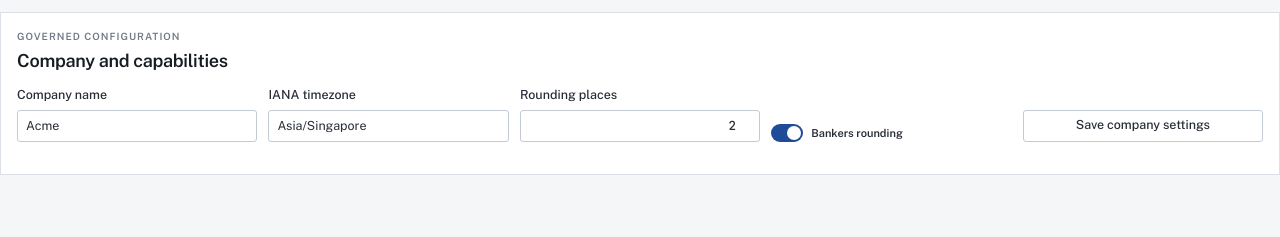
Scenario: AdministrationSettings › loads and saves company presentation controls
Step 1. Replace the text in the field labelled "Company name" with "Acme Updated" → (137, 126), box [26,118,248,133]
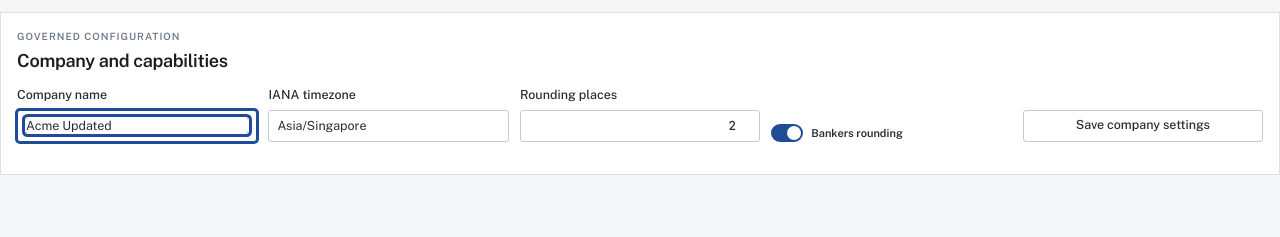
Step 2. Replace the text in the number field labelled "Rounding places" with "4" → (640, 126), box [529,117,751,134]
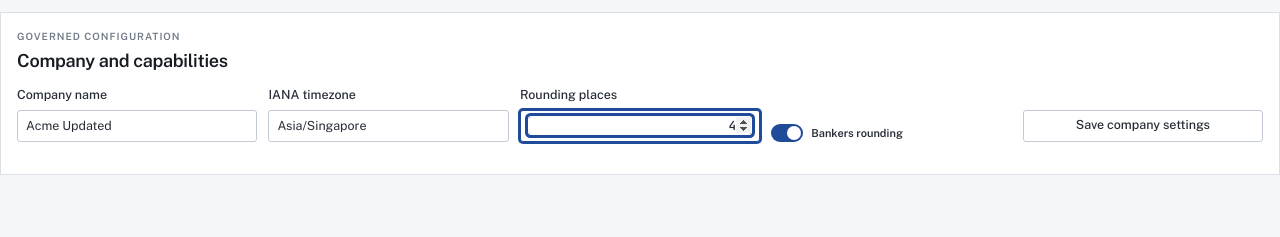
Step 3. Click the checkbox labelled "Bankers rounding" → (837, 133), box [771,124,903,142]
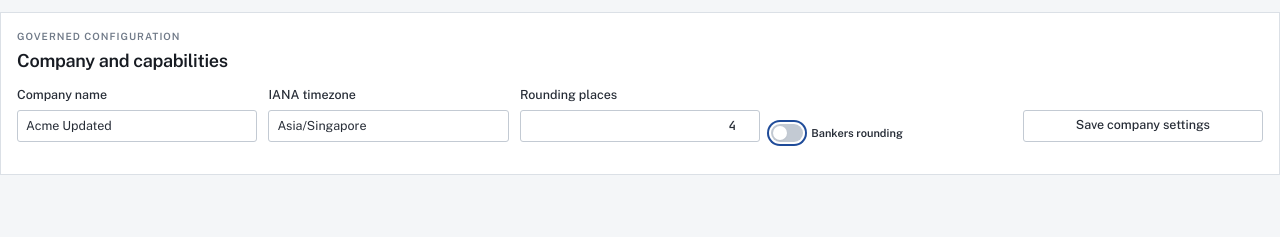
Step 4. Click the button "Save company settings" → (1143, 126), box [1023,110,1263,142]
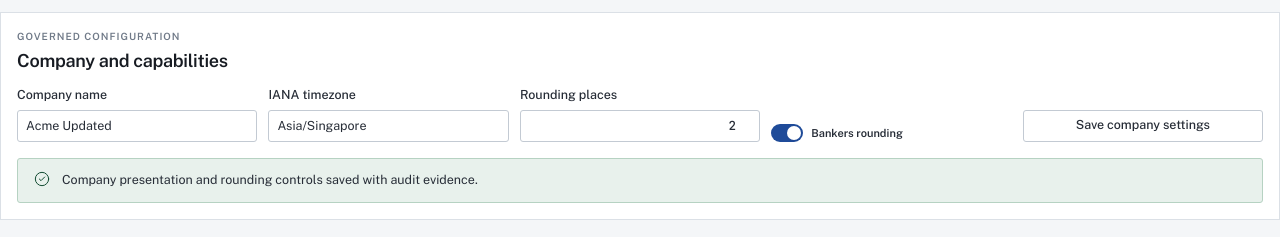
Check: the message shows "saved with audit evidence", box [62,172,478,187]
